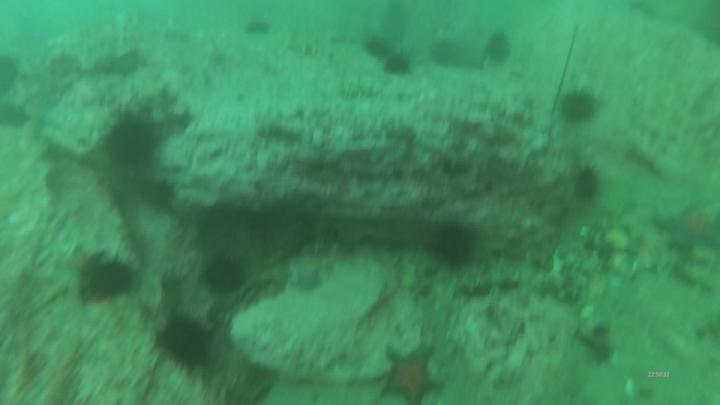echinus: (155, 310, 214, 375), (103, 116, 163, 172), (80, 251, 141, 305), (429, 216, 478, 268), (198, 255, 253, 300), (557, 85, 602, 126), (571, 161, 604, 203), (141, 180, 178, 214), (483, 29, 515, 66), (428, 38, 465, 69), (1, 55, 24, 100), (363, 34, 397, 60), (1, 103, 34, 129), (381, 51, 415, 75), (241, 19, 275, 37)
holothurian: (286, 32, 336, 60), (339, 81, 385, 104)
starfish: (381, 342, 447, 405), (652, 199, 720, 255), (290, 256, 330, 295)
